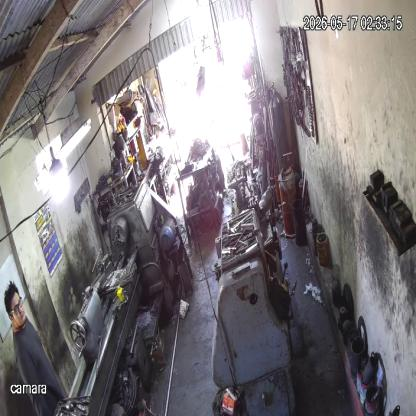lentes: (10, 296, 22, 314)
